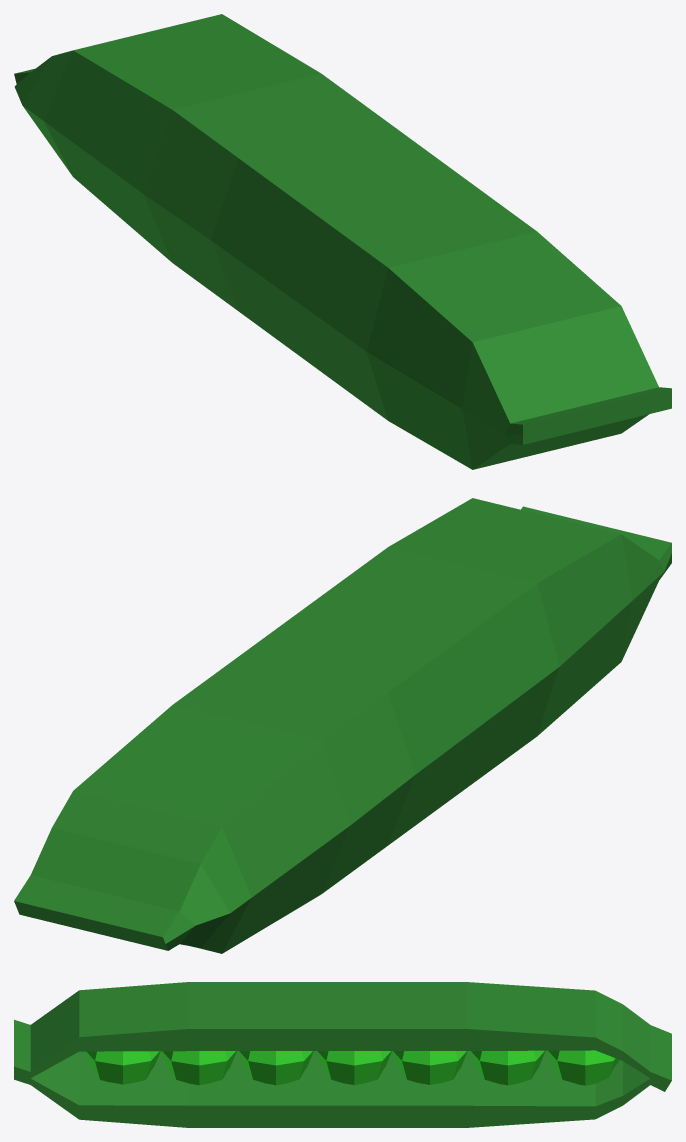
Rendered from Pea.fbx.
3 views of the same model, one above another, from view 1: azimuth 30°, elevation 25°; view 2: azimuth 150°, elevation 25°; view 3: azimuth 270°, elevation 25° (orthographic). The views are drawn at different scales.
Visible parts, largest first — view 1: Peapod; view 2: Peapod; view 3: Peapod, Peas.
Boxes of the visible parts, <box> form: Peapod: <box>14,14,671,469</box>; Peapod: <box>14,498,671,953</box>; Peapod: <box>14,982,671,1127</box>; Peas: <box>85,1050,619,1085</box>.
Bounding box in the file's own units: 28.81 × 23.63 × 142.
